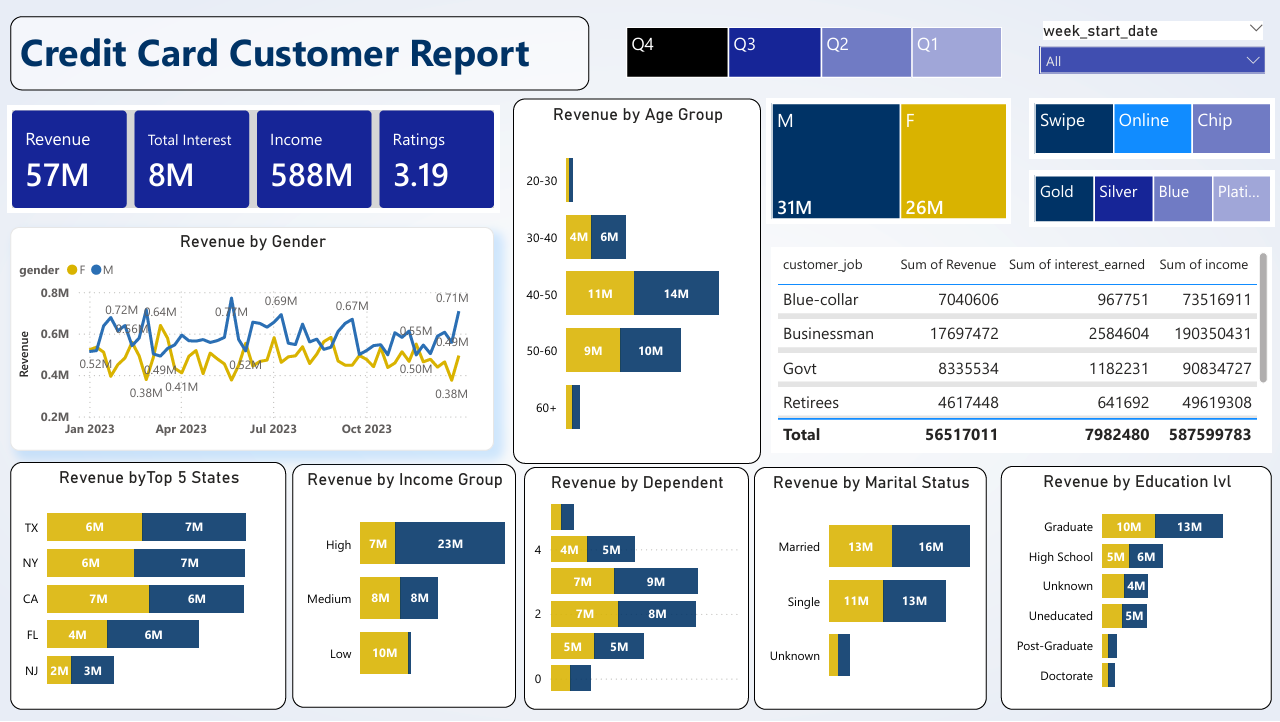

The dashboard page shown, as its layout file describes it:
{"tool":"powerbi","page":{"name":"CC Customer","canvas":[1280,720],"ordinal":1},"visuals":[{"type":"textbox","box":[12.1,18.1,576.7,73.6],"z":0},{"type":"barChart","title":"Revenue by Education lvl","fields":{"Y":["Sum(public cc_details.Revenue)"],"Category":["public cust_detail.education_level"],"Series":["public cust_detail.gender"]},"box":[999,466.3,270.3,242.9],"z":1000},{"type":"barChart","title":"Revenue by Marital Status","fields":{"Y":["Sum(public cc_details.Revenue)"],"Category":["public cust_detail.marital_status"],"Series":["public cust_detail.gender"]},"box":[753.1,466.6,231.9,242.9],"z":2000},{"type":"barChart","title":"Revenue by Dependent","fields":{"Category":["public cust_detail.dependent_count"],"Y":["Sum(public cc_details.Revenue)"],"Series":["public cust_detail.gender"]},"box":[524.2,466.6,223.9,242.9],"z":3000},{"type":"barChart","title":"Revenue by Income Group","fields":{"Y":["Sum(public cc_details.Revenue)"],"Category":["public cust_detail.IncomeGroup"],"Series":["public cust_detail.gender"]},"box":[293.4,464.4,222.3,242.9],"z":4000},{"type":"tableEx","fields":{"Values":["public cust_detail.customer_job","Sum(public cc_details.Revenue)","Sum(public cc_details.interest_earned)","Sum(public cust_detail.income)"]},"box":[771.2,248.4,499.2,204.5],"z":5000},{"type":"slicer","fields":{"Values":["public cc_details.week_start_date"]},"box":[1027.9,18.1,244.9,73.6],"z":6000},{"type":"treemap","fields":{"Values":["Avg(public cc_details.client_num)","select"],"Group":["public cc_details.card_category"]},"box":[1027.8,171.5,245.6,56.3],"z":7000},{"type":"treemap","fields":{"Values":["Avg(public cc_details.client_num)"],"Group":["public cc_details.qtr"]},"box":[621.3,24.1,383.6,60.3],"z":8000},{"type":"treemap","fields":{"Group":["public cust_detail.gender"],"Values":["Sum(public cc_details.Revenue)"]},"box":[765.7,99.9,244.3,125.1],"z":9000},{"type":"cardVisual","fields":{"Data":["Sum(public cc_details.Revenue)","Sum(public cc_details.interest_earned)","Sum(public cust_detail.income)","Avg(public cust_detail.cust_satisfaction_score)"]},"box":[9.1,107,491.3,107],"z":10000},{"type":"lineChart","title":"Revenue by Gender","fields":{"Y":["Sum(public cc_details.Revenue)"],"Category":["public cc_details.week_start_date.Variation.Date Hierarchy.Year","public cc_details.week_start_date.Variation.Date Hierarchy.Month","public cc_details.week_start_date.Variation.Date Hierarchy.Day"],"Series":["public cust_detail.gender"]},"box":[12.3,227.8,481.6,223.7],"z":11000},{"type":"treemap","fields":{"Values":["Avg(public cc_details.client_num)"],"Group":["public cc_details.use_chip"]},"box":[1027.9,100.1,244.9,60.3],"z":12000},{"type":"barChart","title":"Revenue byTop 5 States","fields":{"Y":["Sum(public cc_details.Revenue)"],"Category":["public cust_detail.state_cd"],"Series":["public cust_detail.gender"]},"box":[12.3,462.4,274.4,247],"z":13000},{"type":"barChart","title":"Revenue by Age Group","fields":{"Y":["Sum(public cc_details.Revenue)"],"Category":["public cust_detail.AgeGroup"],"Series":["public cust_detail.gender"]},"box":[512.7,100.2,247.5,363.6],"z":14000}]}

Visuals, with their boxes in screenshot pixels (x1, y1, x2, y2), scaled from the page's 1280x720 canvas onto the 1280x722 screenshot:
textbox: 12 18 589 92
"Revenue by Education lvl" barChart: 999 468 1269 711
"Revenue by Marital Status" barChart: 753 468 985 711
"Revenue by Dependent" barChart: 524 468 748 711
"Revenue by Income Group" barChart: 293 466 516 709
tableEx - public cust_detail.customer_job x Sum(public cc_details.Revenue): 771 249 1270 454
slicer - public cc_details.week_start_date: 1028 18 1273 92
treemap - Avg(public cc_details.client_num) x select: 1028 172 1273 228
treemap - Avg(public cc_details.client_num) x public cc_details.qtr: 621 24 1005 85
treemap - public cust_detail.gender x Sum(public cc_details.Revenue): 766 100 1010 226
cardVisual - Sum(public cc_details.Revenue) x Sum(public cc_details.interest_earned): 9 107 500 215
"Revenue by Gender" lineChart: 12 228 494 453
treemap - Avg(public cc_details.client_num) x public cc_details.use_chip: 1028 100 1273 161
"Revenue byTop 5 States" barChart: 12 464 287 711
"Revenue by Age Group" barChart: 513 100 760 465
